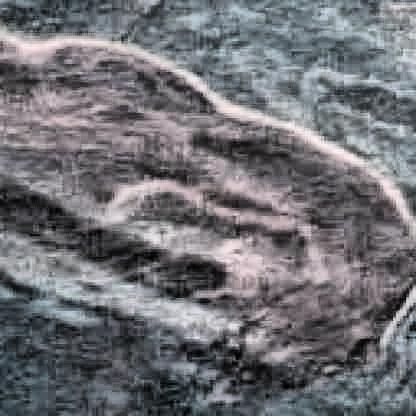sheen: (0, 37, 416, 416)
